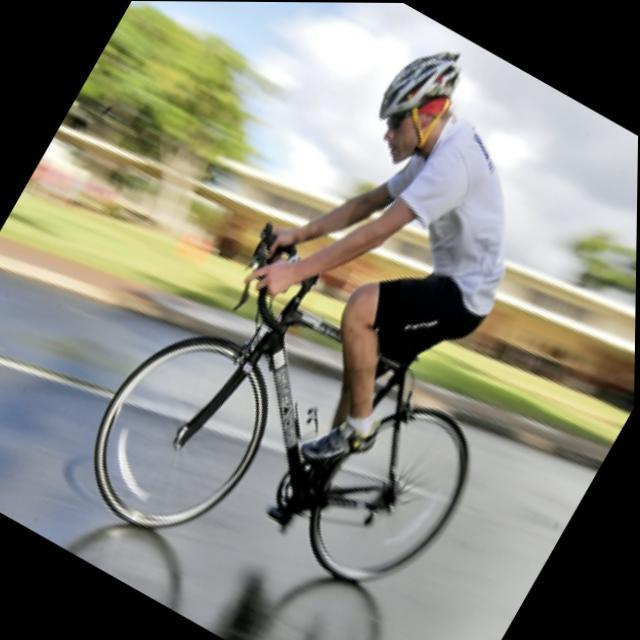Helmet: (367, 42, 467, 166)
